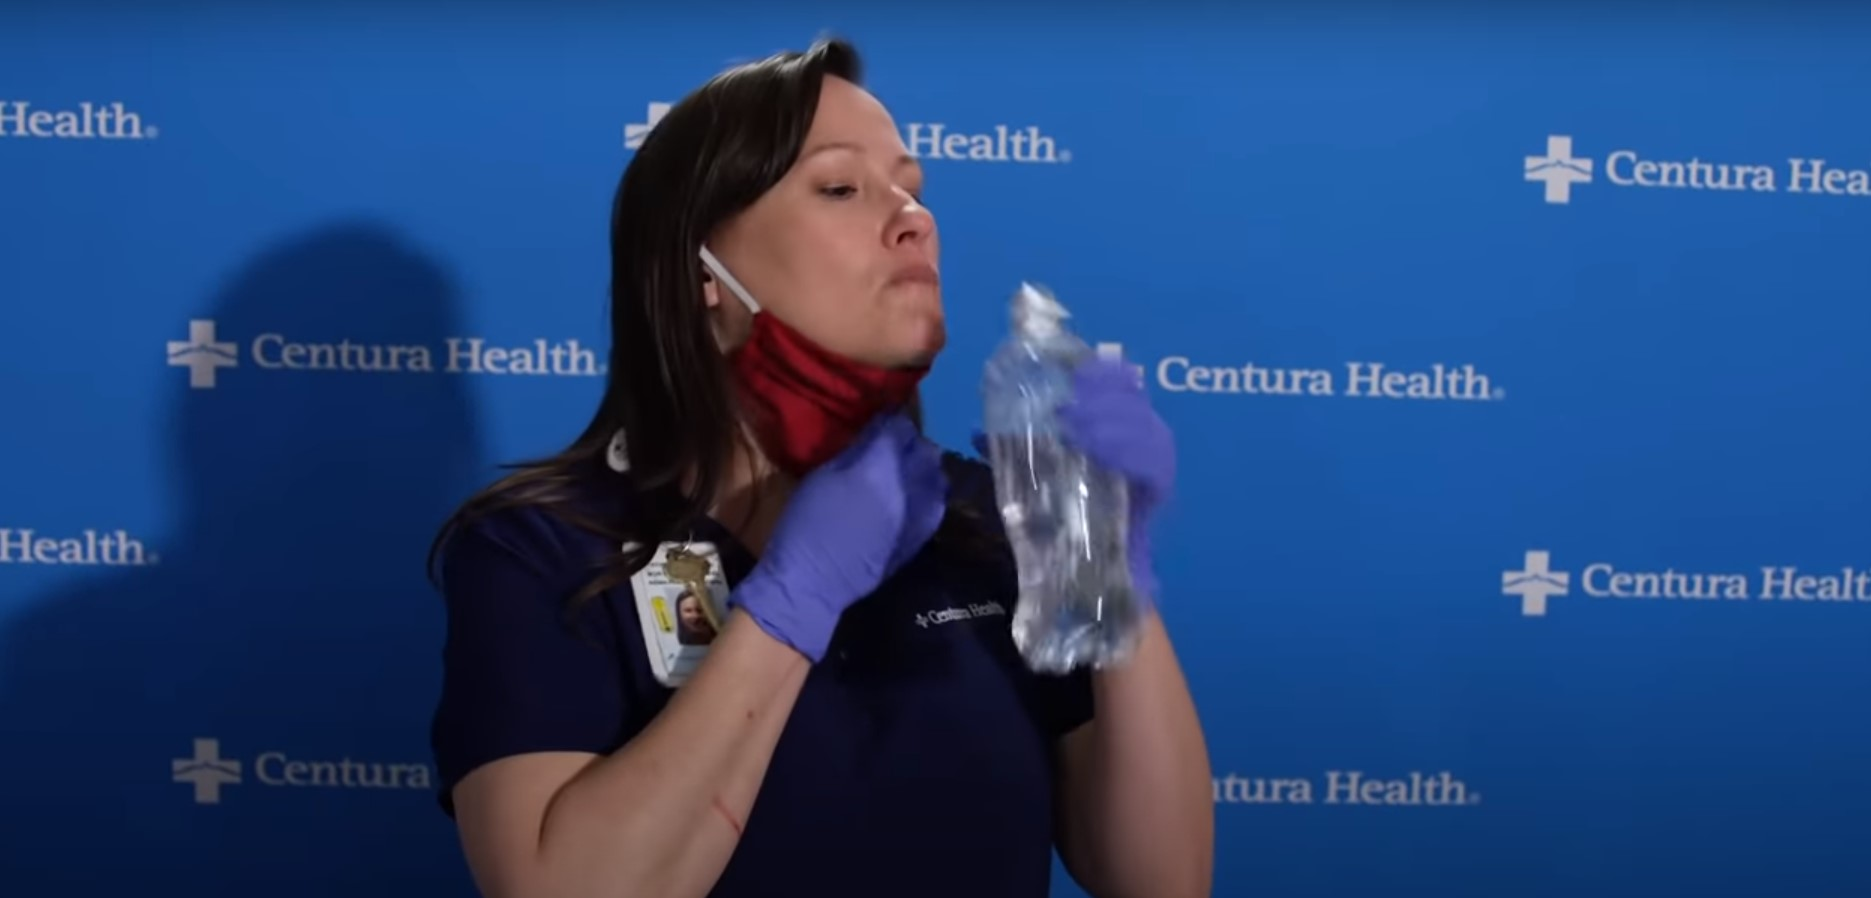face_with_mask: (614, 40, 947, 477)
